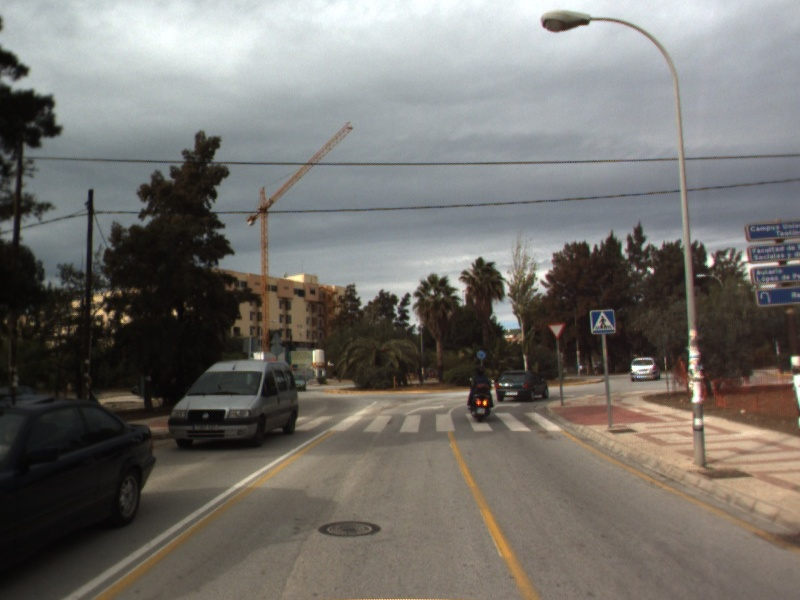RIGHT: (402, 402, 446, 417), (488, 399, 524, 412)
